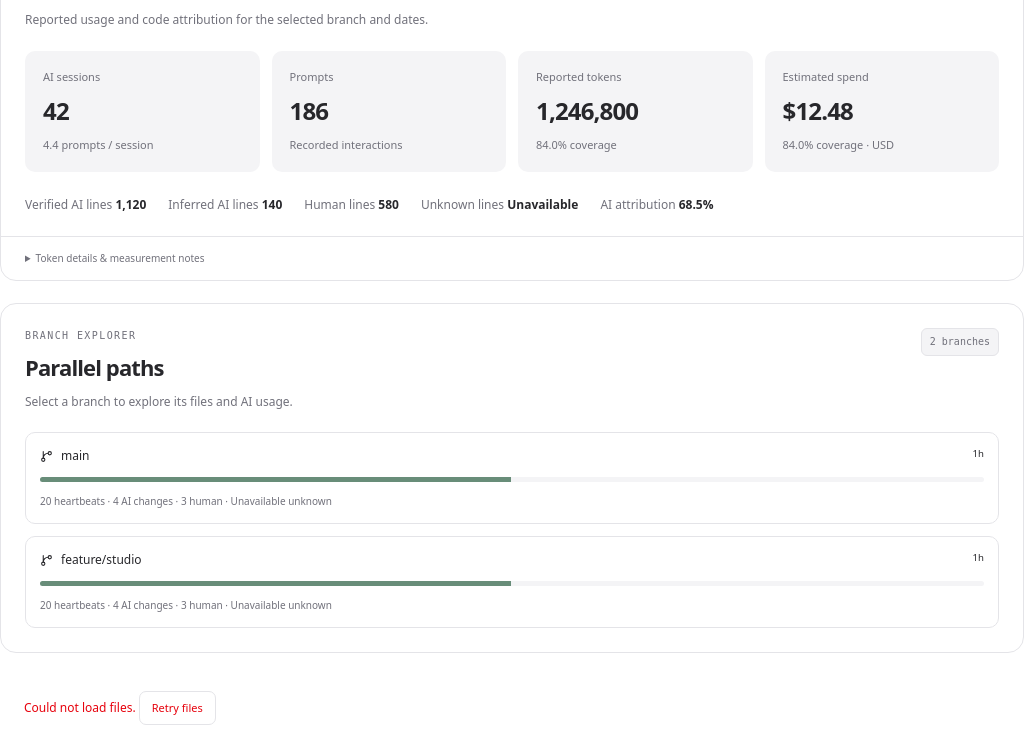
Test: Project Studio › keeps other sections usable when file loading fails and supports retry
(page scrolled)
Expected: the text "Could not load files." is shown, [24,699,136,716]
Click the button "Retry files".
click(177, 708)  # box [139,691,216,726]
(page scrolled)
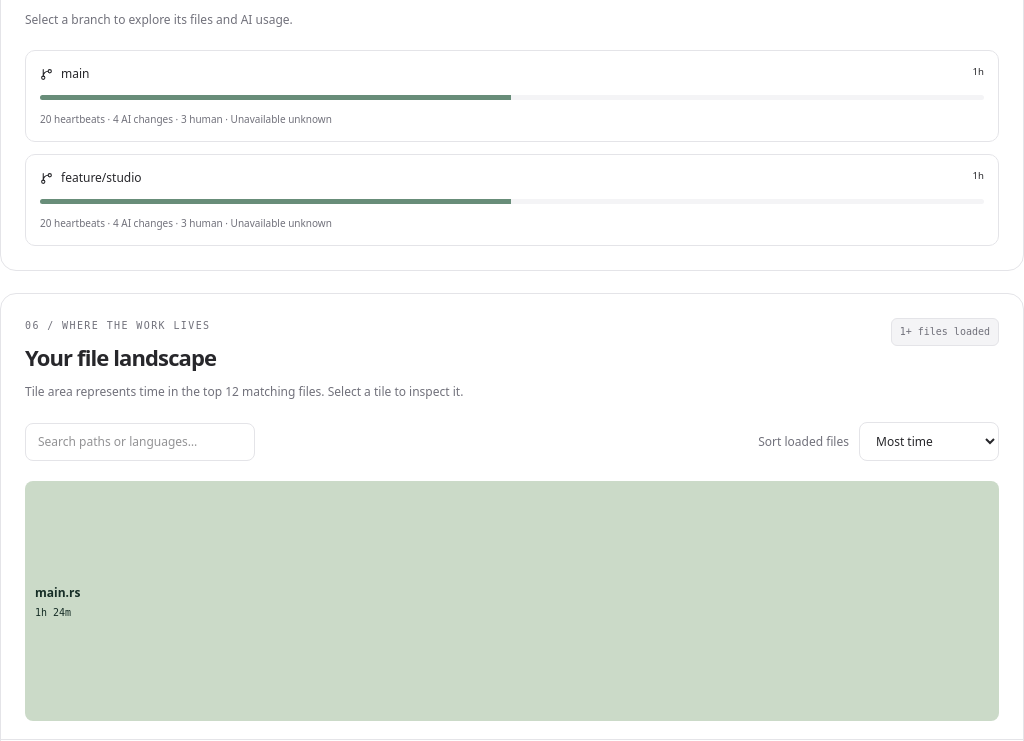
Now the heading "Your file landscape" is shown, box [25,342,216,372]
